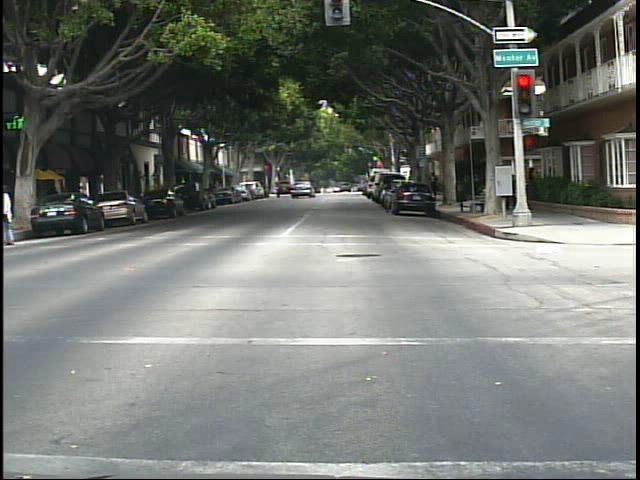person: (1, 176, 28, 247), (377, 172, 399, 217), (525, 162, 540, 198), (431, 168, 442, 200)
